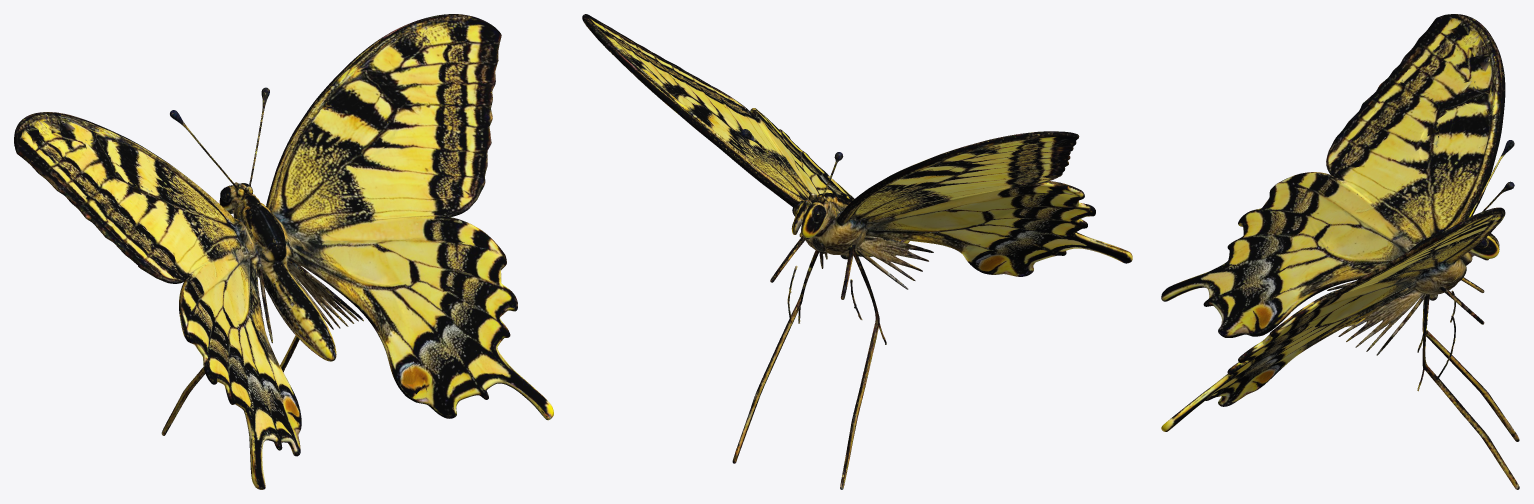
Rendered from swallow.glb.
3 views of the same model, side by side, from view 1: azimuth 30°, elevation 25°; view 2: azimuth 150°, elevation 25°; view 3: azimuth 270°, elevation 25° (orthographic). The views are drawn at different scales.
Visible parts, largest first — view 1: swallow; view 2: swallow; view 3: swallow.
Part boxes in pixels (x1,y1,x2,y2): swallow: (14, 14, 553, 489); swallow: (582, 14, 1132, 489); swallow: (1161, 14, 1519, 489).
Bounding box in the file's own units: 1 × 0.7365 × 0.6871.
1 material, 1 textured.
